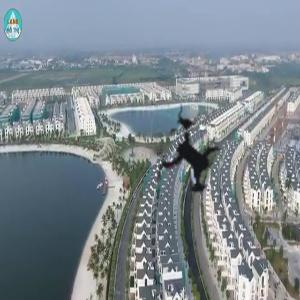drone: (113, 82, 263, 232)
